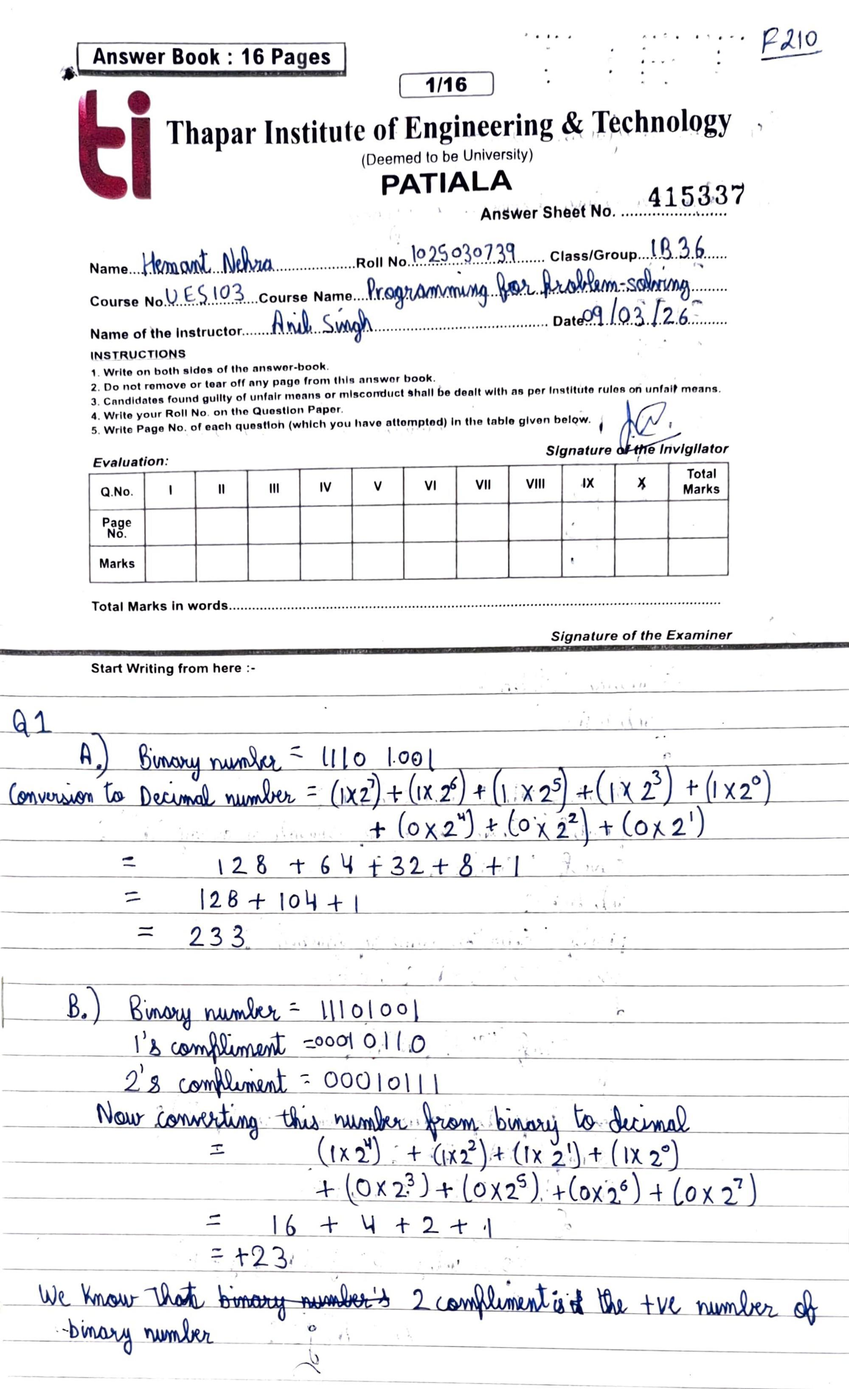cuttings: (214, 1282, 393, 1323), (568, 1288, 585, 1316)
